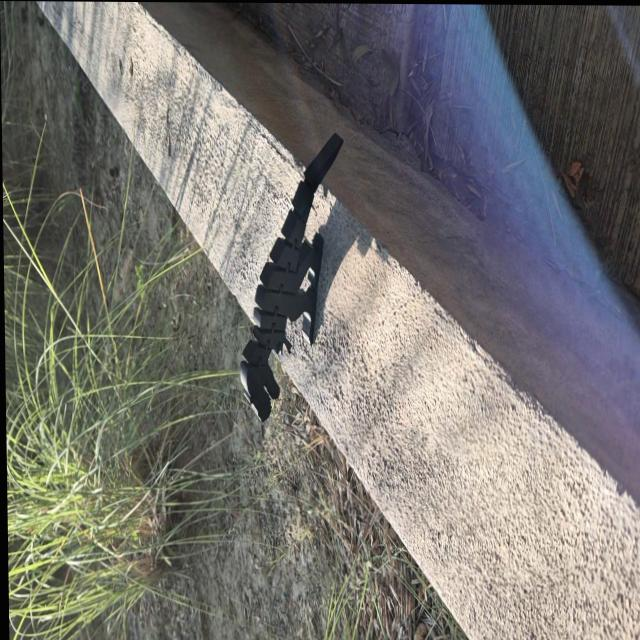dino: (235, 130, 349, 423)
